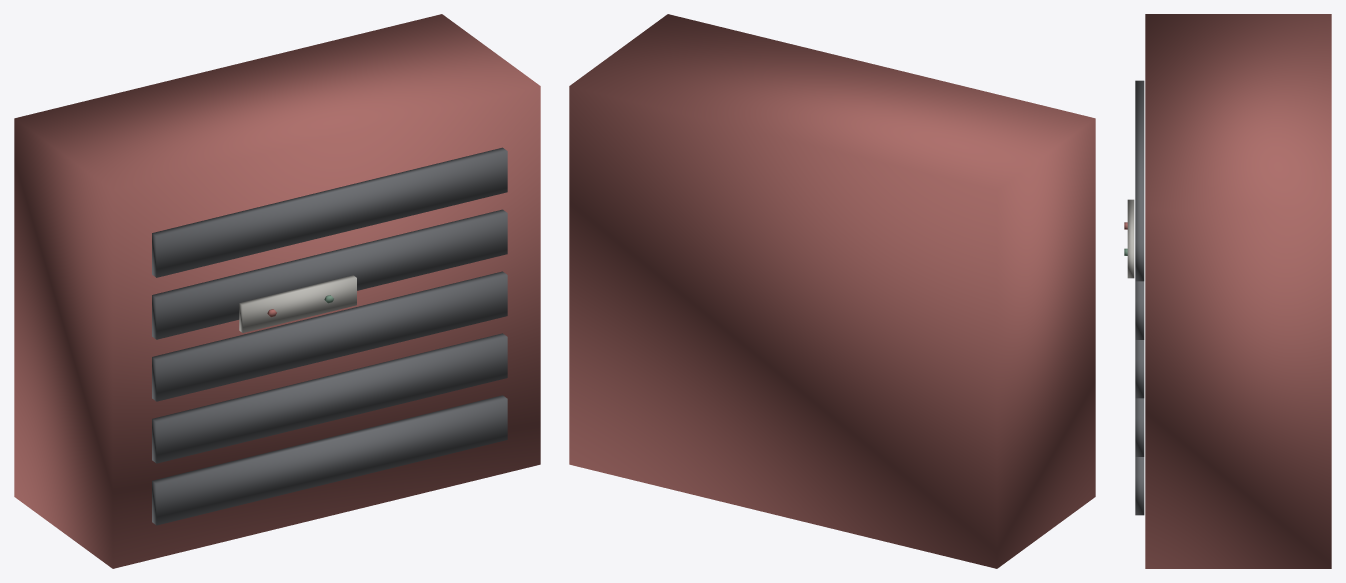
File: tool_cabinet__wide.glb
The picture shows the model from 3 angles, left to right: view 1: azimuth 30°, elevation 25°; view 2: azimuth 150°, elevation 25°; view 3: azimuth 270°, elevation 25°; orthographic projection. The views are drawn at different scales.
Visible parts, largest first — view 1: world; view 2: world; view 3: world.
Part boxes in pixels (x1=…): world: x1=14, y1=14, x2=540, y2=568; world: x1=569, y1=14, x2=1095, y2=568; world: x1=1124, y1=14, x2=1331, y2=568.
Bounding box in the file's own units: 1.3 × 1.1 × 0.5785.
